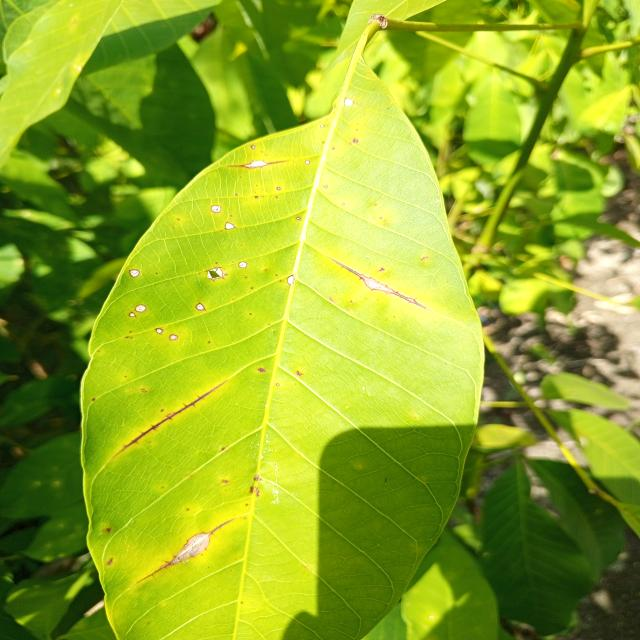Colletotrichum: (134, 304, 146, 313), (195, 303, 206, 311), (211, 205, 221, 212), (225, 222, 235, 229), (287, 275, 294, 285), (238, 261, 246, 268), (169, 334, 178, 340), (156, 328, 163, 334), (128, 312, 136, 317), (251, 146, 256, 150), (305, 161, 310, 164), (296, 217, 300, 220), (320, 125, 324, 128), (277, 187, 280, 190), (342, 203, 345, 205), (235, 194, 238, 196), (255, 196, 258, 198), (225, 274, 228, 276), (276, 384, 279, 386), (230, 215, 232, 217), (251, 287, 253, 289), (208, 341, 210, 343)
Corynespora: (112, 379, 228, 456), (136, 518, 235, 584), (327, 255, 430, 310), (229, 159, 287, 169)
